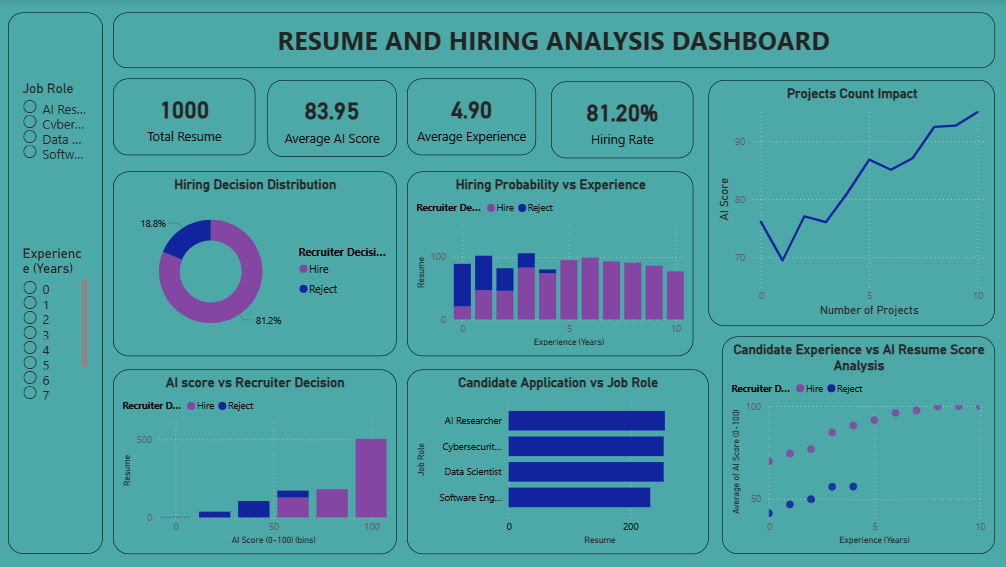

The page's visual inventory and layout, read from the dashboard file:
{"tool":"powerbi","page":{"name":"Page 1","canvas":[1280,720],"ordinal":0},"visuals":[{"type":"donutChart","title":"Hiring Decision Distribution","fields":{"Category":["AI_Resume_Screening.Recruiter Decision"],"Y":["CountNonNull(AI_Resume_Screening.Resume_ID)"]},"box":[147.4,217.3,357.2,232.4],"z":0},{"type":"columnChart","title":"AI score vs Recruiter Decision","fields":{"Y":["CountNonNull(AI_Resume_Screening.Resume_ID)"],"Category":["AI_Resume_Screening.AI Score (0-100) (bins)"],"Series":["AI_Resume_Screening.Recruiter Decision"]},"box":[147.4,466.8,357.2,232.4],"z":1000},{"type":"columnChart","title":"Hiring Probability vs Experience","fields":{"Y":["CountNonNull(AI_Resume_Screening.Resume_ID)"],"Series":["AI_Resume_Screening.Recruiter Decision"],"Category":["AI_Resume_Screening.Experience (Years)"]},"box":[517.8,217.3,360.9,232.4],"z":2000},{"type":"barChart","title":"Candidate Application vs Job Role","fields":{"Category":["AI_Resume_Screening.Job Role"],"Y":["CountNonNull(AI_Resume_Screening.Resume_ID)"]},"box":[517.8,466.8,379.8,232.4],"z":3000},{"type":"scatterChart","title":"Candidate Experience vs AI Resume Score Analysis","fields":{"X":["AI_Resume_Screening.Experience (Years)"],"Series":["AI_Resume_Screening.Recruiter Decision"],"Y":["Avg(AI_Resume_Screening.AI Score (0-100))"]},"box":[914.7,425.2,343.9,274],"z":4000},{"type":"lineChart","title":"Projects Count Impact","fields":{"Y":["Avg(AI_Resume_Screening.AI Score (0-100))"],"Category":["AI_Resume_Screening.Projects Count"]},"box":[897.6,102,360.9,309.9],"z":5000},{"type":"textbox","box":[147.4,17,1111.2,69.9],"z":6000},{"type":"shape","box":[15.1,17,119.1,682.2],"z":7000},{"type":"listSlicer","fields":{"Values":["AI_Resume_Screening.Job Role"]},"box":[28.3,102,92.6,189],"z":8000},{"type":"listSlicer","fields":{"Values":["AI_Resume_Screening.Experience (Years)"]},"box":[28.3,309.9,92.6,204.1],"z":9000},{"type":"card","fields":{"Values":["CountNonNull(AI_Resume_Screening.Resume_ID)"]},"box":[147.4,100.2,179.5,96.4],"z":9001},{"type":"card","fields":{"Values":["Avg(AI_Resume_Screening.AI Score (0-100))"]},"box":[342,102,162.5,96.4],"z":9002},{"type":"card","fields":{"Values":["Avg(AI_Resume_Screening.Experience (Years))"]},"box":[517.8,100.2,162.5,96.4],"z":9003},{"type":"card","fields":{"Values":["AI_Resume_Screening.Hire Rate"]},"box":[699.2,103.9,179.5,96.4],"z":9004}]}

Visuals, with their boxes in screenshot pixels (x1, y1, x2, y2), scaled from the page's 1280x720 canvas onto the 1006x567 screenshot:
"Hiring Decision Distribution" donutChart: (116, 171, 397, 354)
"AI score vs Recruiter Decision" columnChart: (116, 368, 397, 551)
"Hiring Probability vs Experience" columnChart: (407, 171, 691, 354)
"Candidate Application vs Job Role" barChart: (407, 368, 705, 551)
"Candidate Experience vs AI Resume Score Analysis" scatterChart: (719, 335, 989, 551)
"Projects Count Impact" lineChart: (705, 80, 989, 324)
textbox: (116, 13, 989, 68)
shape: (12, 13, 105, 551)
listSlicer - AI_Resume_Screening.Job Role: (22, 80, 95, 229)
listSlicer - AI_Resume_Screening.Experience (Years): (22, 244, 95, 405)
card - CountNonNull(AI_Resume_Screening.Resume_ID): (116, 79, 257, 155)
card - Avg(AI_Resume_Screening.AI Score (0-100)): (269, 80, 397, 156)
card - Avg(AI_Resume_Screening.Experience (Years)): (407, 79, 535, 155)
card - AI_Resume_Screening.Hire Rate: (550, 82, 691, 158)
